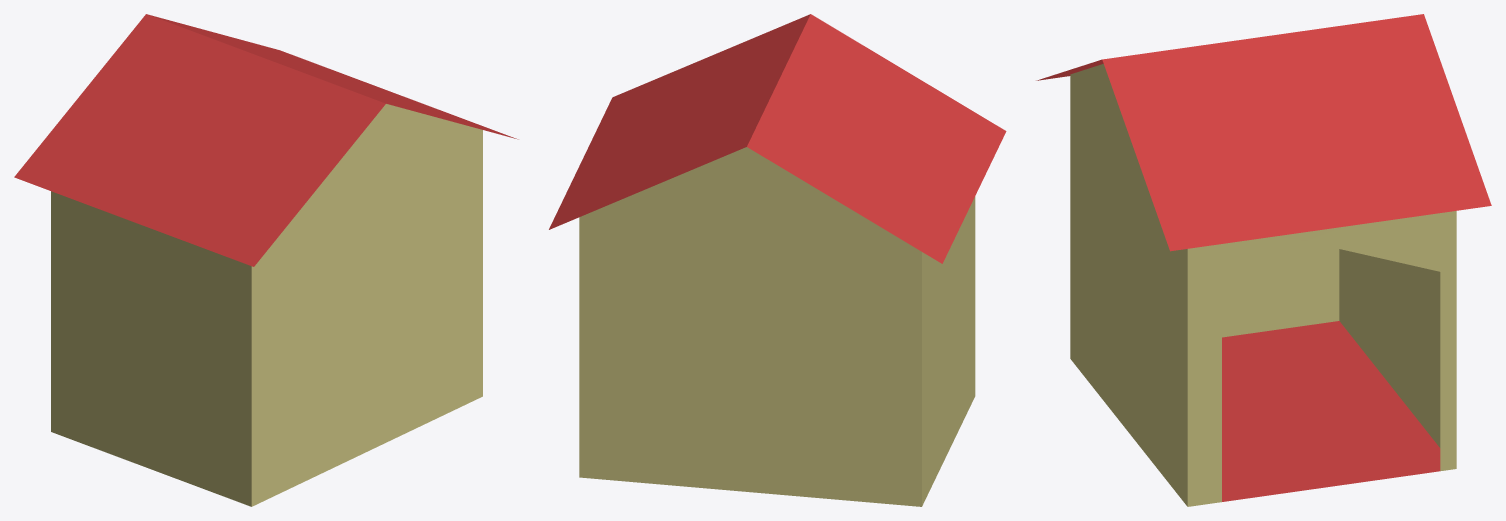
3 views of the same model, side by side, from view 1: azimuth 30°, elevation 25°; view 2: azimuth 150°, elevation 25°; view 3: azimuth 270°, elevation 25° (orthographic). The views are drawn at different scales.
Size of the model in its own units: 13.78 by 12.32 by 11.22.
